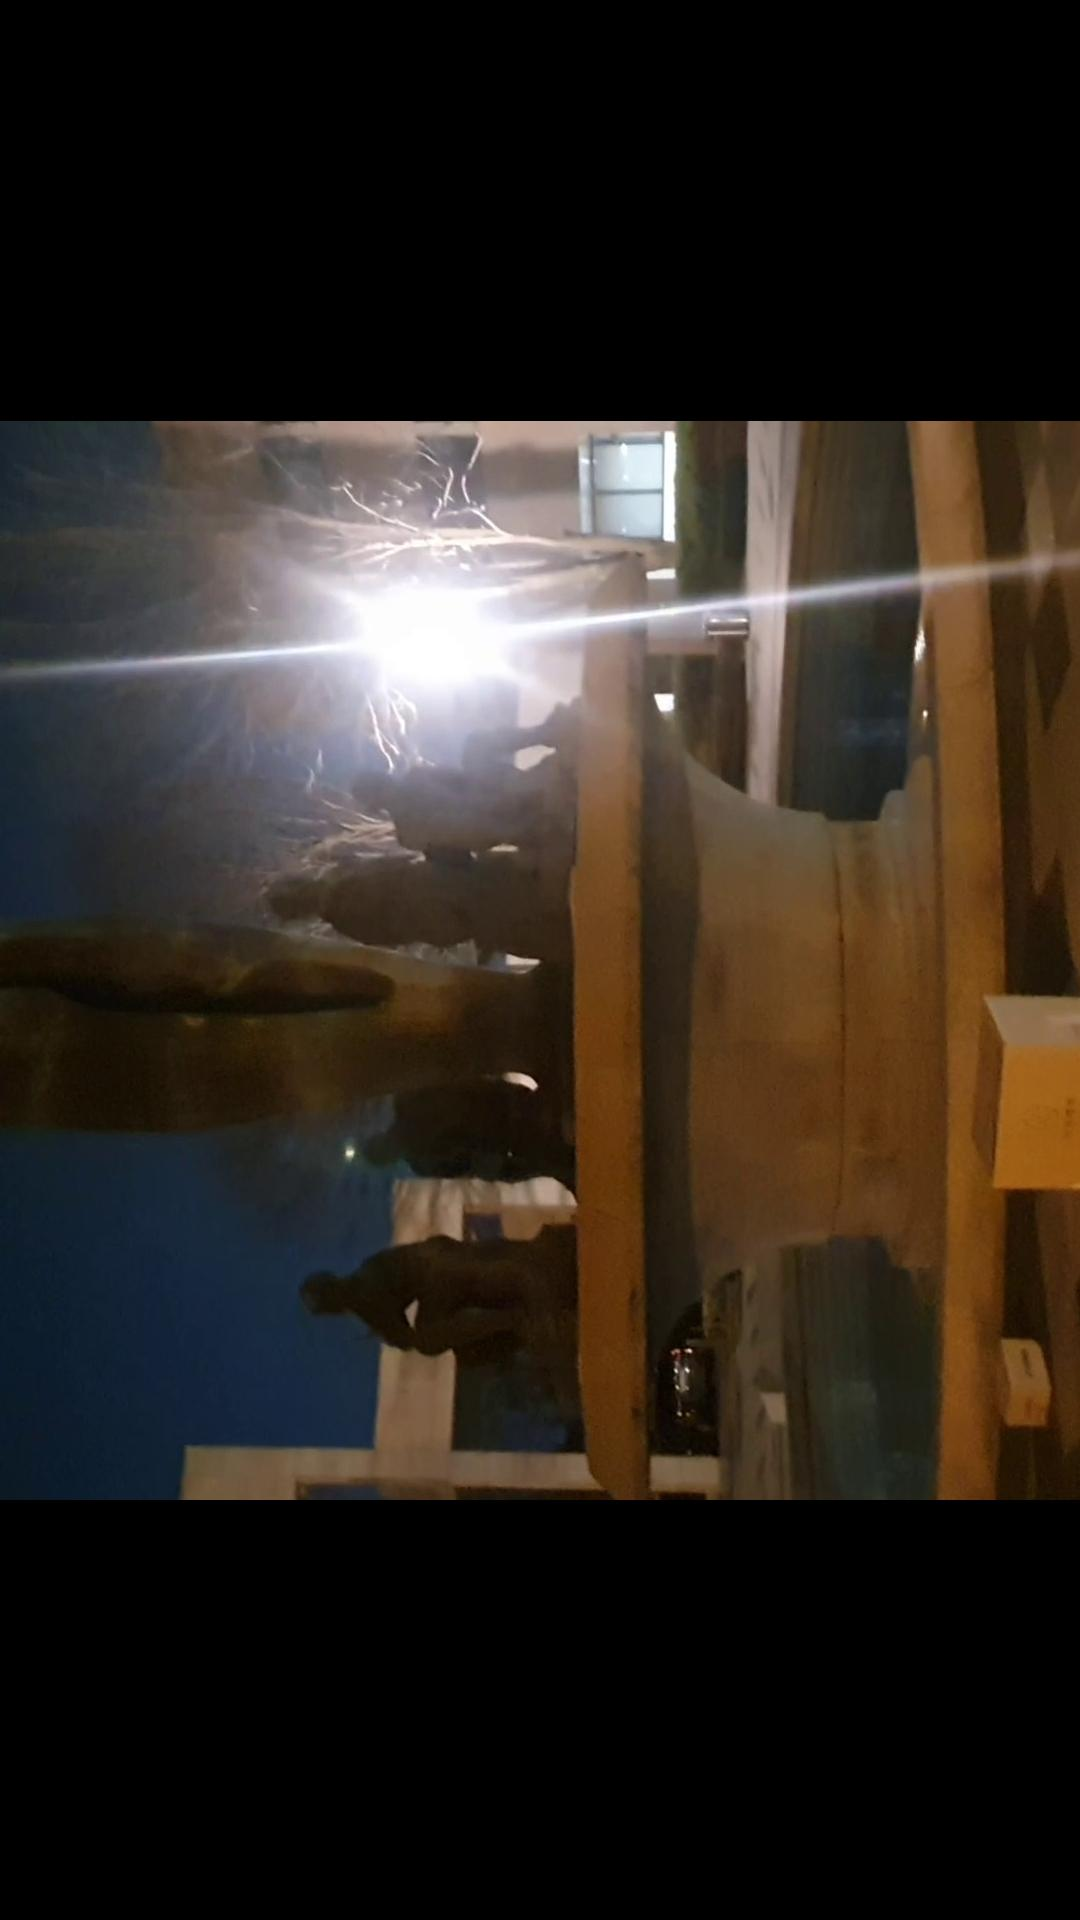Box: (955, 982, 1080, 1215), (985, 1328, 1052, 1422)
